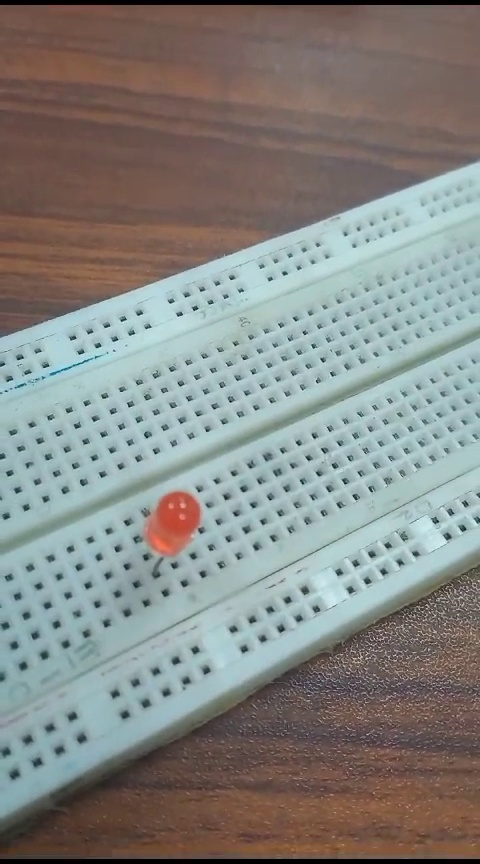LED: (155, 485, 196, 588)
